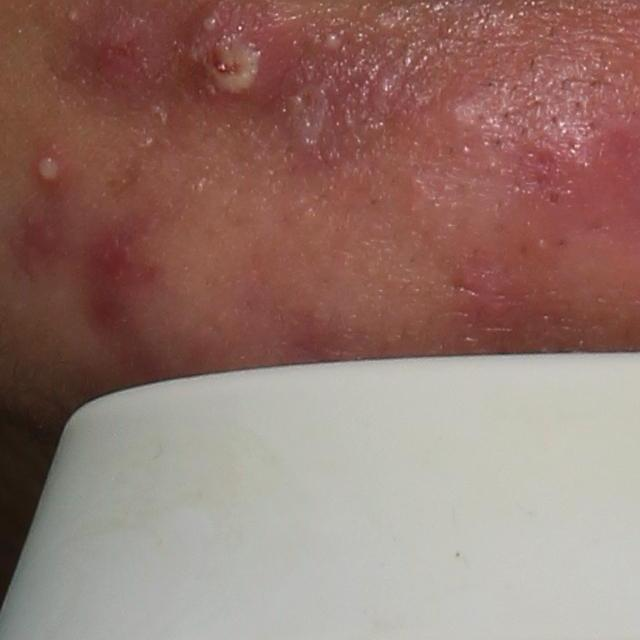papule: (78, 15, 163, 104), (437, 90, 487, 142)
pustule: (285, 79, 342, 153), (30, 148, 68, 201), (316, 28, 348, 58)
